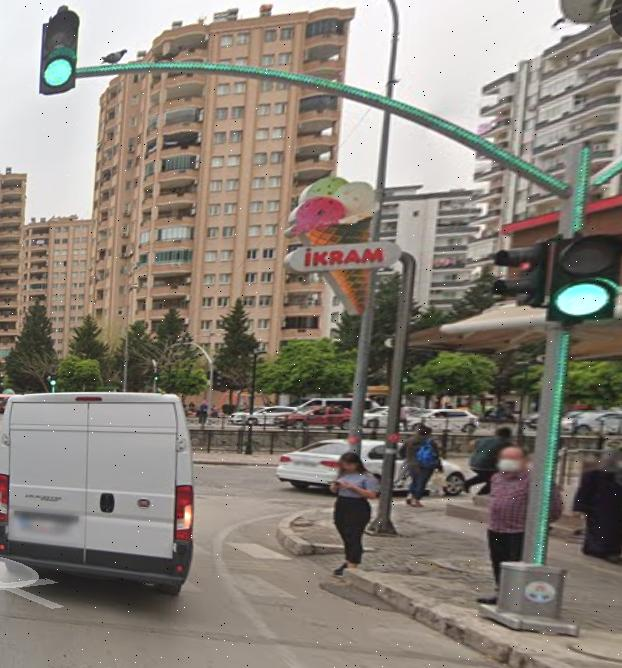greenlight: (552, 232, 614, 324), (42, 6, 80, 97)
